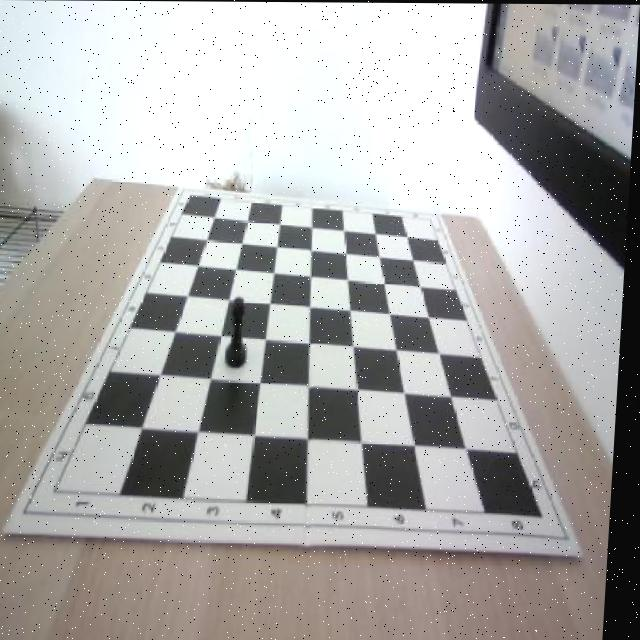black-knight: (229, 297, 257, 368)
